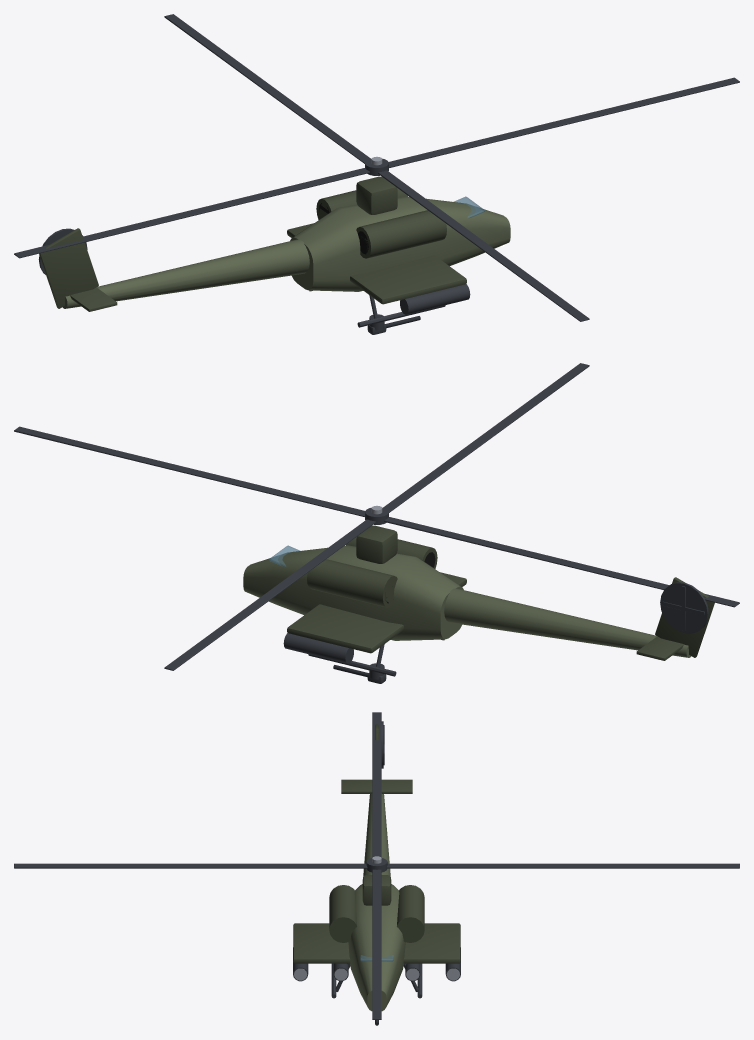
File: heli.glb
3 renders of one model, top to bottom at view 1: azimuth 30°, elevation 25°; view 2: azimuth 150°, elevation 25°; view 3: azimuth 270°, elevation 25°, orthographic. The views are drawn at different scales.
Visible parts, largest first — view 1: body, rotor; view 2: body, rotor; view 3: body, rotor.
Boxes of the visible parts, box(x1,y1,x2,y2) form: body: box(38, 176, 510, 327); rotor: box(14, 14, 739, 321); body: box(243, 525, 714, 676); rotor: box(14, 363, 739, 670); body: box(293, 721, 460, 1011); rotor: box(14, 712, 739, 1019).
Bounding box in the file's own units: 15.2 × 3.55 × 15.2.
